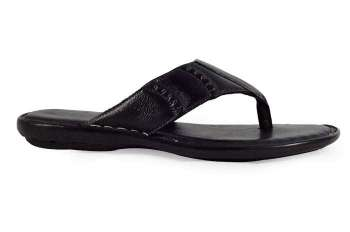Footwear: (15, 57, 343, 165)
